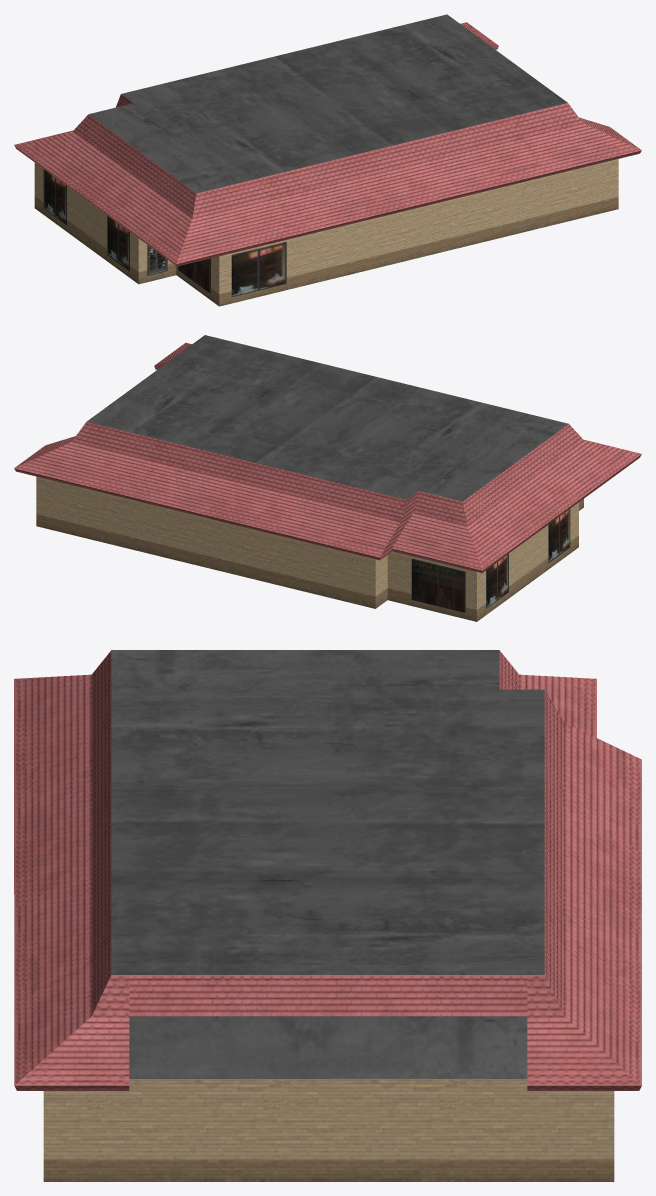
The model's file is restarunt.fbx.
3 views of the same model, one above another, from view 1: azimuth 30°, elevation 25°; view 2: azimuth 150°, elevation 25°; view 3: azimuth 270°, elevation 25° (orthographic). The views are drawn at different scales.
Parts seen in each view (by area): view 1: model_0; view 2: model_0; view 3: model_0.
Boxes of the visible parts, x1,y1,x2,y2 form: model_0: (14, 14, 641, 306); model_0: (14, 335, 641, 621); model_0: (14, 650, 641, 1181).
Bounding box in the file's own units: 1952 × 401 × 1273.
